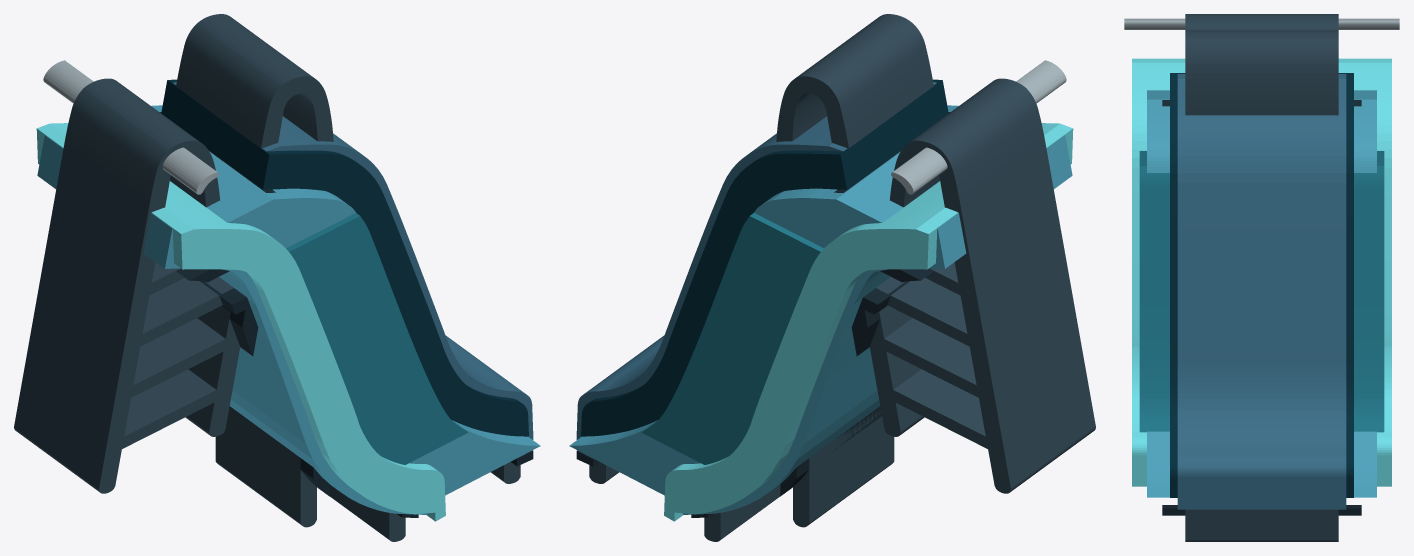
3 renders of one model, left to right at view 1: azimuth 30°, elevation 25°; view 2: azimuth 150°, elevation 25°; view 3: azimuth 270°, elevation 25°, orthographic. The views are drawn at different scales.
Visible parts, largest first — view 1: U+1F6DD_layer00_obj09, U+1F6DD_layer07_obj00, U+1F6DD_layer06_obj00, U+1F6DD_layer02_obj00, U+1F6DD_layer00_obj04, U+1F6DD_layer05_obj00, U+1F6DD_layer05_obj01, U+1F6DD_layer00_obj00, U+1F6DD_layer01_obj01, U+1F6DD_layer00_obj03, U+1F6DD_layer00_obj08, U+1F6DD_layer00_obj07 (+5 smaller); view 2: U+1F6DD_layer00_obj09, U+1F6DD_layer07_obj00, U+1F6DD_layer06_obj00, U+1F6DD_layer02_obj00, U+1F6DD_layer00_obj04, U+1F6DD_layer05_obj00, U+1F6DD_layer05_obj01, U+1F6DD_layer00_obj00, U+1F6DD_layer01_obj01, U+1F6DD_layer00_obj03, U+1F6DD_layer00_obj08, U+1F6DD_layer00_obj07 (+6 smaller); view 3: U+1F6DD_layer01_obj01, U+1F6DD_layer06_obj00, U+1F6DD_layer00_obj04, U+1F6DD_layer07_obj00, U+1F6DD_layer02_obj00, U+1F6DD_layer05_obj00, U+1F6DD_layer00_obj05, U+1F6DD_layer00_obj09, U+1F6DD_layer08_obj00, U+1F6DD_layer03_obj03.
Boxes of the visible parts, box(x1,y1,x2,y2) form: U+1F6DD_layer00_obj09: box(14, 78, 219, 493); U+1F6DD_layer07_obj00: box(36, 123, 445, 521); U+1F6DD_layer06_obj00: box(286, 213, 468, 464); U+1F6DD_layer02_obj00: box(161, 79, 528, 436); U+1F6DD_layer00_obj04: box(176, 14, 333, 148); U+1F6DD_layer05_obj00: box(151, 105, 540, 495); U+1F6DD_layer05_obj01: box(37, 135, 426, 514); U+1F6DD_layer00_obj00: box(215, 406, 316, 527); U+1F6DD_layer01_obj01: box(173, 82, 533, 439); U+1F6DD_layer00_obj03: box(114, 369, 225, 452); U+1F6DD_layer00_obj08: box(123, 318, 234, 401); U+1F6DD_layer00_obj07: box(132, 277, 233, 350); U+1F6DD_layer00_obj09: box(890, 78, 1095, 493); U+1F6DD_layer07_obj00: box(664, 123, 1073, 521); U+1F6DD_layer06_obj00: box(641, 213, 823, 464); U+1F6DD_layer02_obj00: box(581, 79, 948, 436); U+1F6DD_layer00_obj04: box(776, 14, 933, 148); U+1F6DD_layer05_obj00: box(569, 105, 958, 495); U+1F6DD_layer05_obj01: box(683, 135, 1072, 514); U+1F6DD_layer00_obj00: box(793, 409, 894, 527); U+1F6DD_layer01_obj01: box(576, 82, 936, 439); U+1F6DD_layer00_obj03: box(884, 369, 995, 452); U+1F6DD_layer00_obj08: box(875, 318, 986, 401); U+1F6DD_layer00_obj07: box(876, 277, 977, 350); U+1F6DD_layer01_obj01: box(1177, 74, 1346, 509); U+1F6DD_layer06_obj00: box(1139, 151, 1384, 432); U+1F6DD_layer00_obj04: box(1185, 30, 1338, 115); U+1F6DD_layer07_obj00: box(1132, 58, 1391, 486); U+1F6DD_layer02_obj00: box(1170, 73, 1353, 497); U+1F6DD_layer05_obj00: box(1147, 90, 1376, 497); U+1F6DD_layer00_obj05: box(1185, 509, 1338, 541); U+1F6DD_layer00_obj09: box(1185, 14, 1338, 30); U+1F6DD_layer08_obj00: box(1124, 18, 1399, 29); U+1F6DD_layer03_obj03: box(1162, 505, 1361, 515).
Bounding box in the file's own units: 0.2922 × 0.317 × 0.18.
